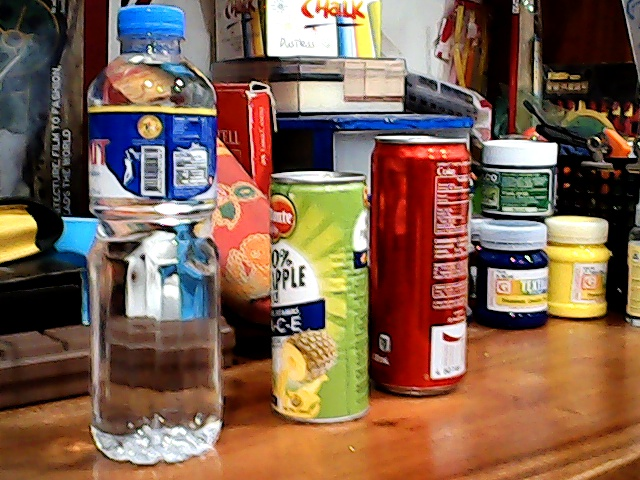Cola: (367, 113, 483, 415)
Pine Juice: (251, 160, 375, 438)
Summit Water: (78, 3, 233, 480)
